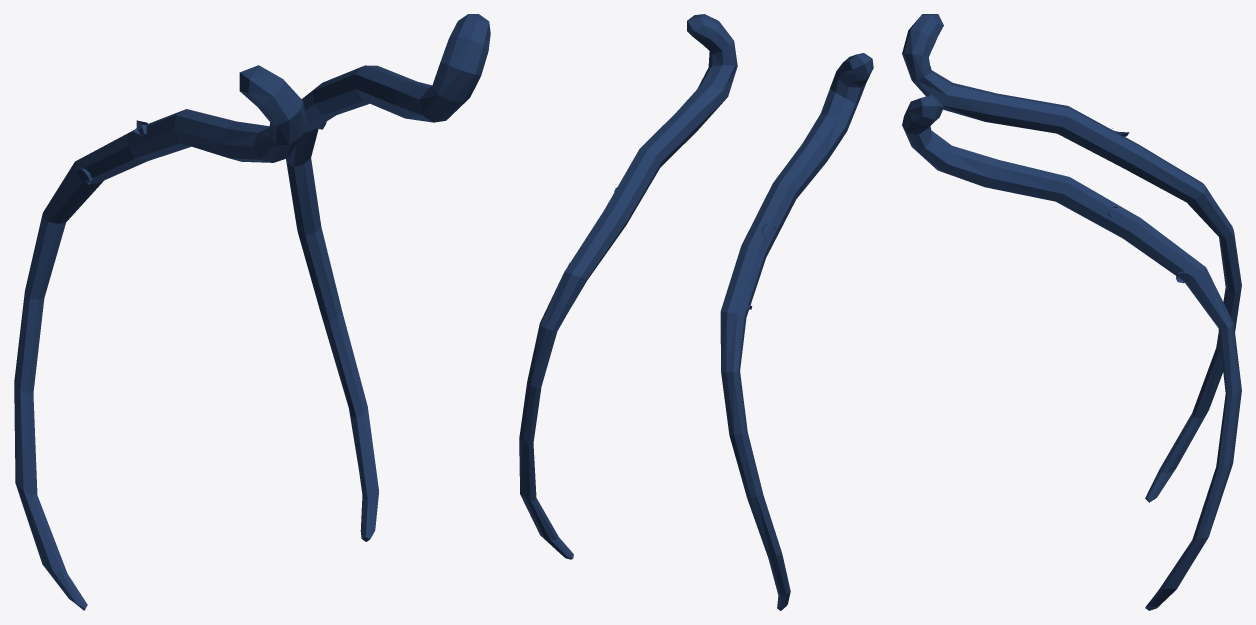
File: Vena Iliaca Interna.FBX
The picture shows the model from 3 angles, left to right: view 1: azimuth 30°, elevation 25°; view 2: azimuth 150°, elevation 25°; view 3: azimuth 270°, elevation 25°; orthographic projection. The views are drawn at different scales.
Visible parts, largest first — view 1: CS_Veins; view 2: CS_Veins; view 3: CS_Veins.
Boxes of the visible parts, x1,y1,x2,y2 form: CS_Veins: (14,14,490,610); CS_Veins: (519,14,873,610); CS_Veins: (902,14,1241,610).
Bounding box in the file's own units: 276 × 482 × 296.
